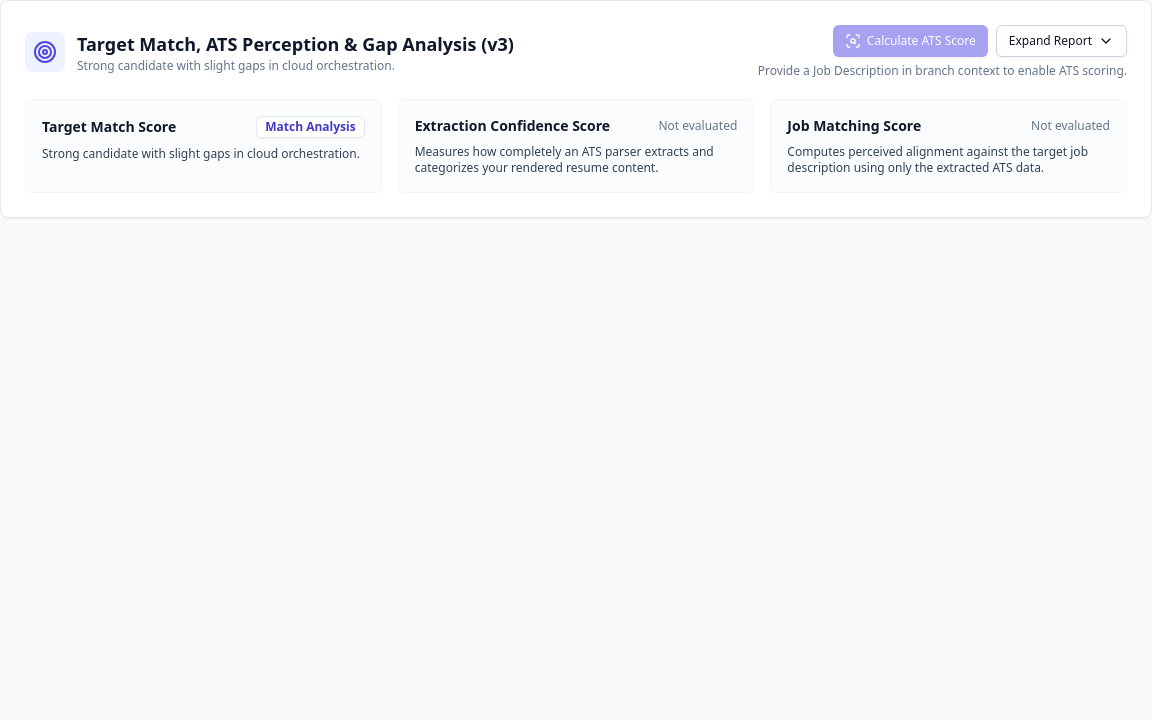
Test: GapAnalysisCard › defensively handles backend payload with missing_requirements and no match score without crashing or displaying NaN%
Click the button with aria-label "toggle gap analysis report": (1061, 41) [996,25,1127,57]
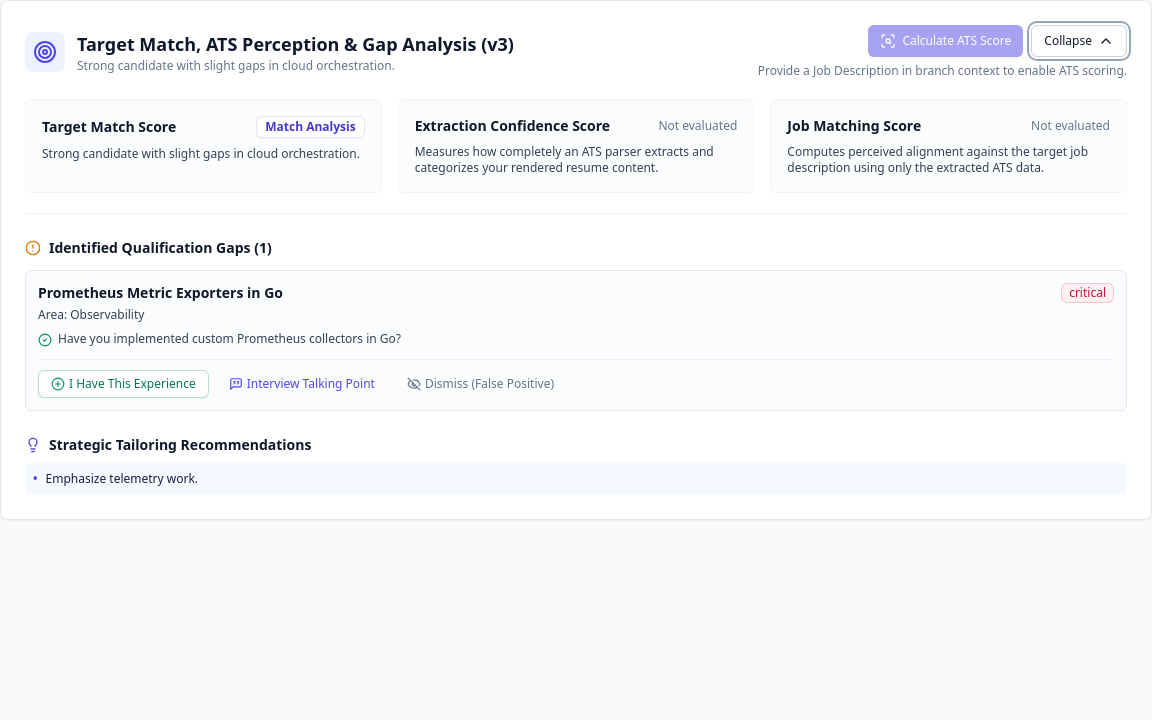
Expected: the text "Prometheus Metric Exporters in Go" is shown, [38,283,283,303]
Expected: the text "Observability" is shown, [70,306,144,323]
